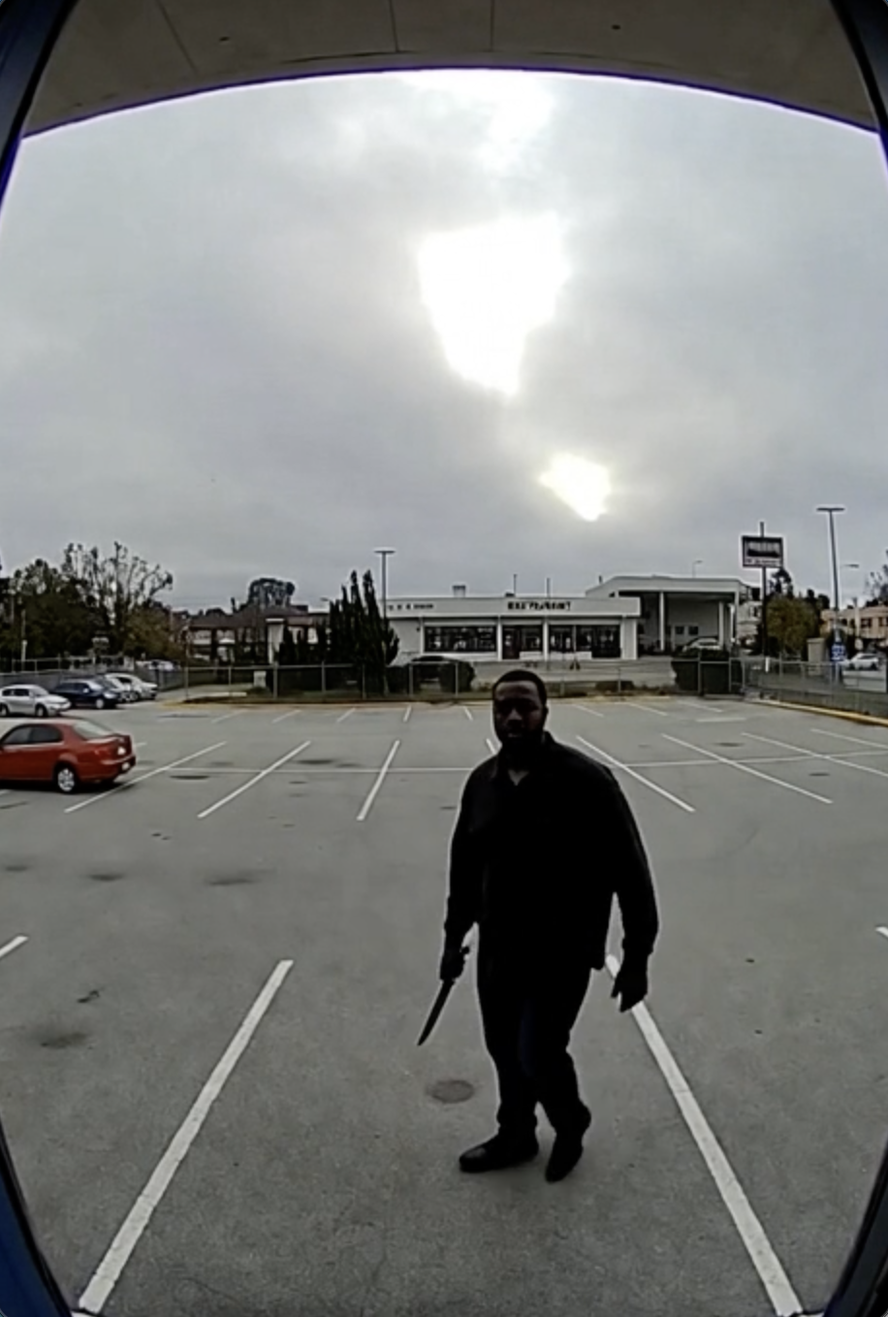Heavy Gun: (420, 653, 663, 1191)
Knife: (408, 931, 480, 1060)
